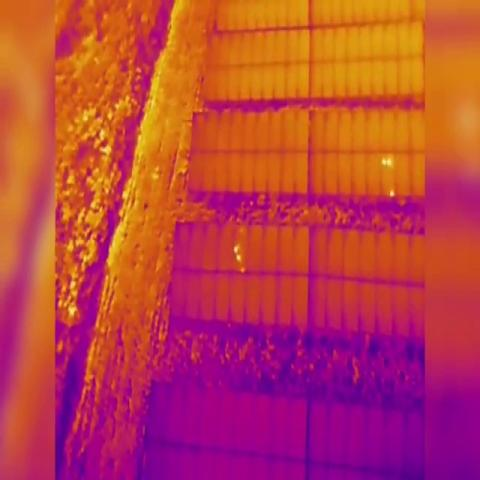fault: (379, 155, 387, 168), (386, 154, 393, 168), (232, 243, 239, 255), (388, 190, 396, 199), (236, 252, 242, 263), (241, 265, 245, 274)
